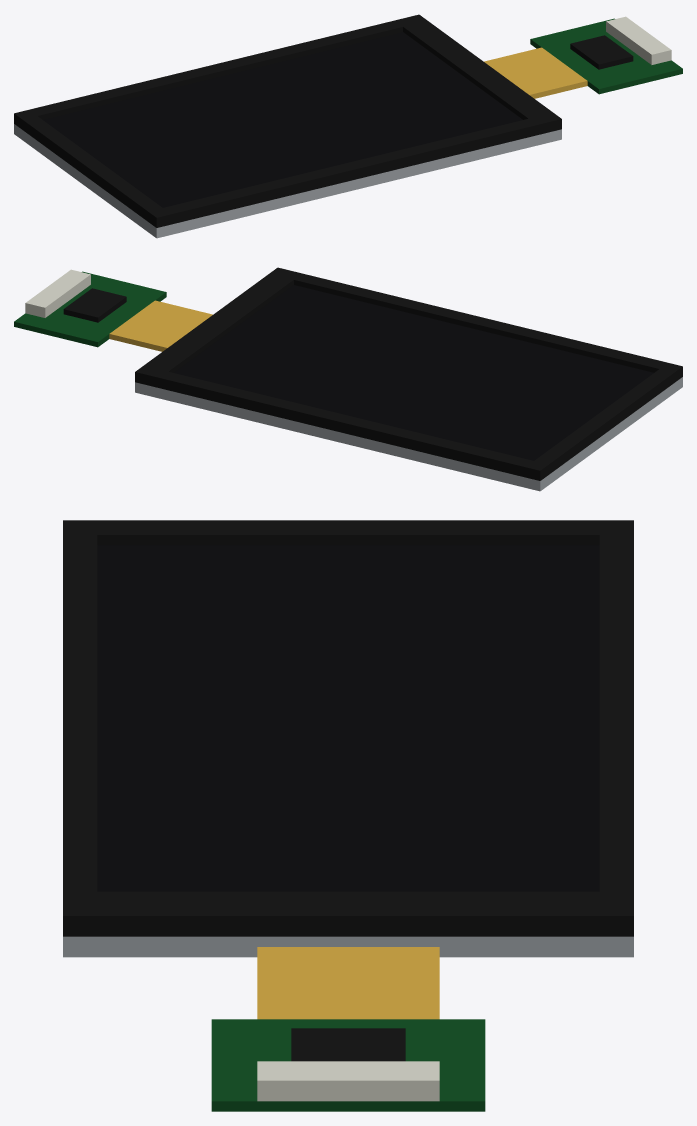
File: small_lcd_screen.glb
3 renders of one model, top to bottom at view 1: azimuth 30°, elevation 25°; view 2: azimuth 150°, elevation 25°; view 3: azimuth 270°, elevation 25°, orthographic. The views are drawn at different scales.
Parts seen in each view (by area): view 1: small_lcd_screen:compound; view 2: small_lcd_screen:compound; view 3: small_lcd_screen:compound.
Boxes of the visible parts, box(x1,y1,x2,y2) form: small_lcd_screen:compound: box(14, 14, 682, 238); small_lcd_screen:compound: box(14, 267, 682, 491); small_lcd_screen:compound: box(63, 520, 633, 1111).
Bounding box in the file's own units: 0.228 × 0.008 × 0.1.
